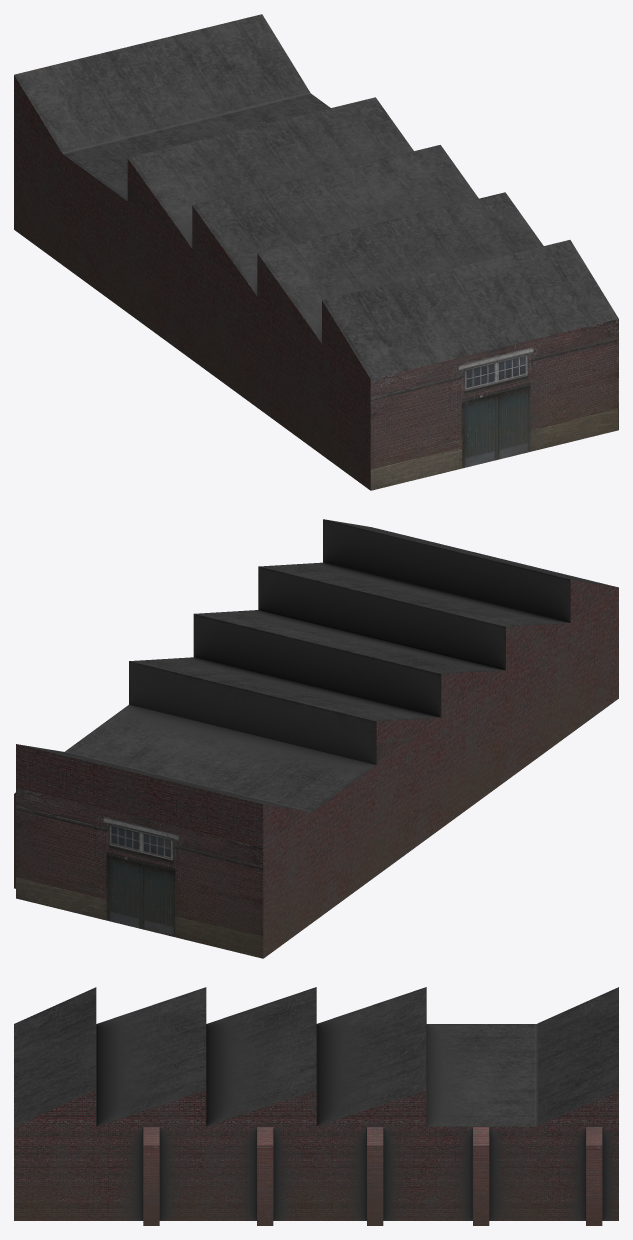
Rendered from IndustrialShed.FBX.
The picture shows the model from 3 angles, top to bottom: view 1: azimuth 30°, elevation 25°; view 2: azimuth 150°, elevation 25°; view 3: azimuth 270°, elevation 25°; orthographic projection. The views are drawn at different scales.
Parts seen in each view (by area): view 1: IndustrialShed; view 2: IndustrialShed; view 3: IndustrialShed.
Boxes of the visible parts, <box> form: IndustrialShed: <box>14,14,618,490</box>; IndustrialShed: <box>14,519,618,958</box>; IndustrialShed: <box>14,987,618,1225</box>.
Size of the model in its own units: 2228 by 1269 by 5296.
1 material, 1 textured.
